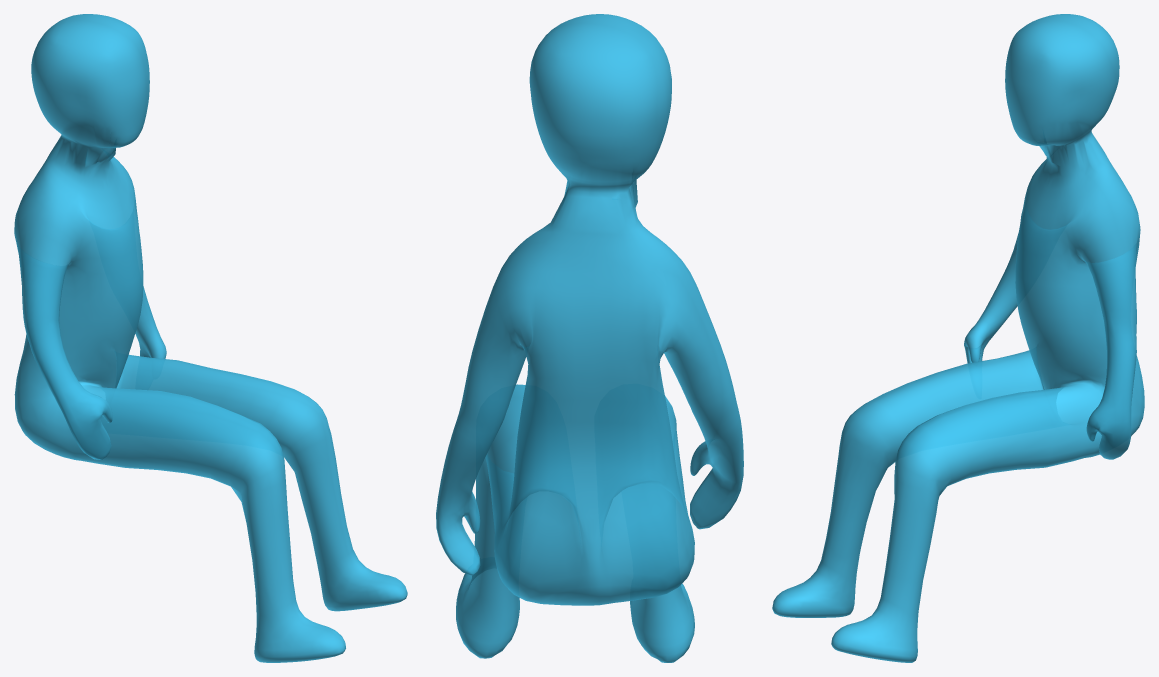
The model's file is SeatedAvatar_Female.glb.
3 renders of one model, left to right at view 1: azimuth 30°, elevation 25°; view 2: azimuth 150°, elevation 25°; view 3: azimuth 270°, elevation 25°, orthographic. The views are drawn at different scales.
Parts seen in each view (by area): view 1: Stickman_heads_sphere; view 2: Stickman_heads_sphere; view 3: Stickman_heads_sphere.
Boxes of the visible parts, bbox=[...] form: Stickman_heads_sphere: bbox=[14, 14, 407, 662]; Stickman_heads_sphere: bbox=[436, 14, 743, 662]; Stickman_heads_sphere: bbox=[772, 14, 1144, 662].
Bounding box in the file's own units: 0.6252 × 1.2 × 0.7147.
